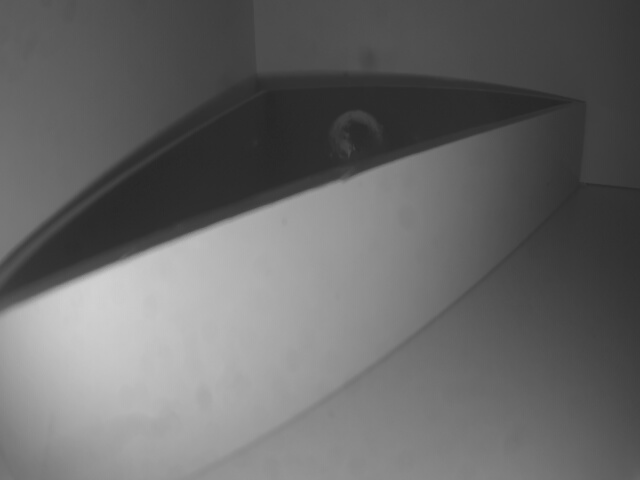Red: (0, 103, 589, 480)
